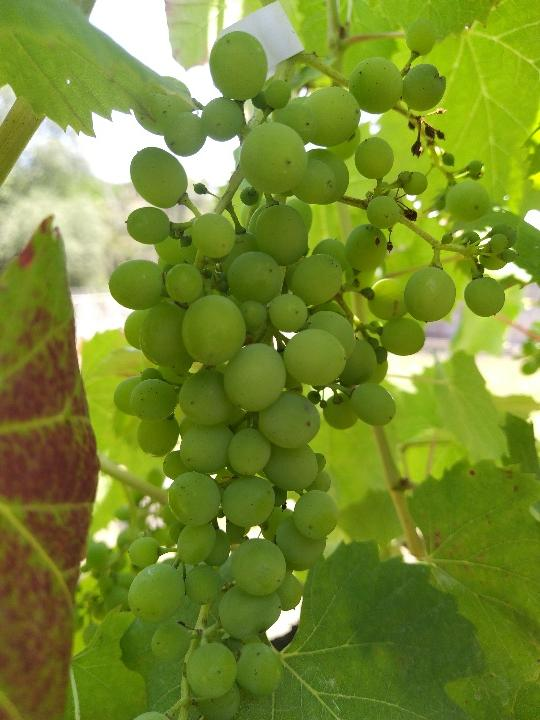grape: (108, 17, 516, 717)
